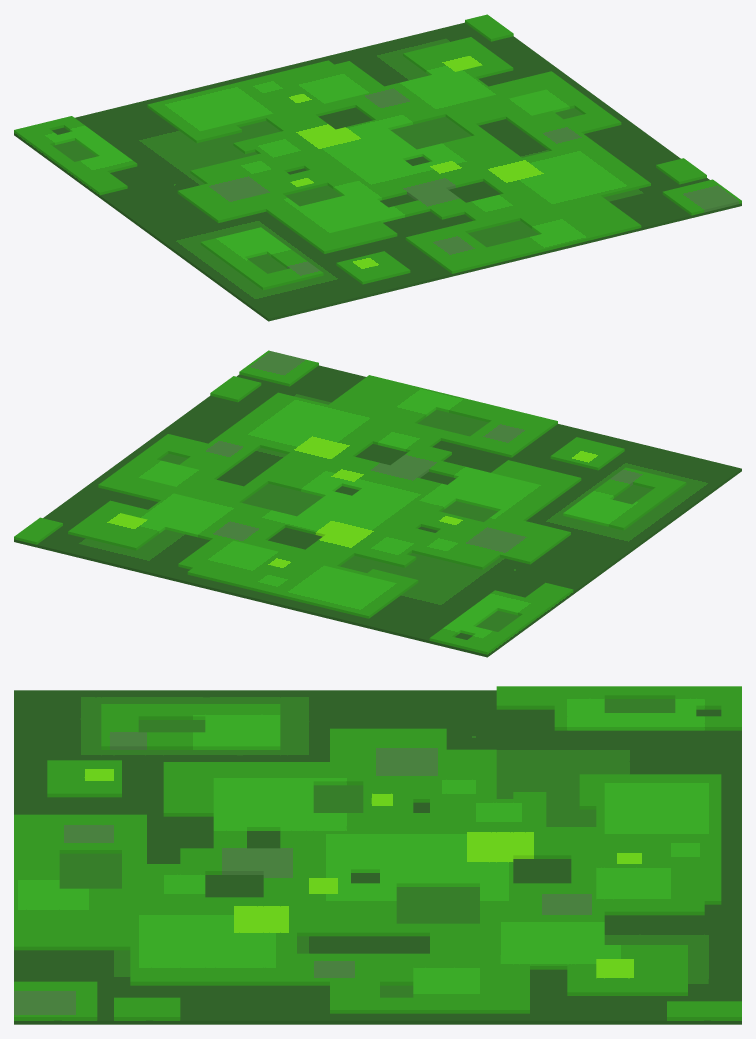
The model's file is 毒液池.gltf.
3 views of the same model, one above another, from view 1: azimuth 30°, elevation 25°; view 2: azimuth 150°, elevation 25°; view 3: azimuth 270°, elevation 25° (orthographic). The views are drawn at different scales.
Parts seen in each view (by area): view 1: Object; view 2: Object; view 3: Object.
Part boxes in pixels (<box>): Object: <box>14,14,741,321</box>; Object: <box>14,350,741,657</box>; Object: <box>14,686,741,1024</box>.
Size of the model in its own units: 188 by 2 by 175.
1 material, 1 textured.
